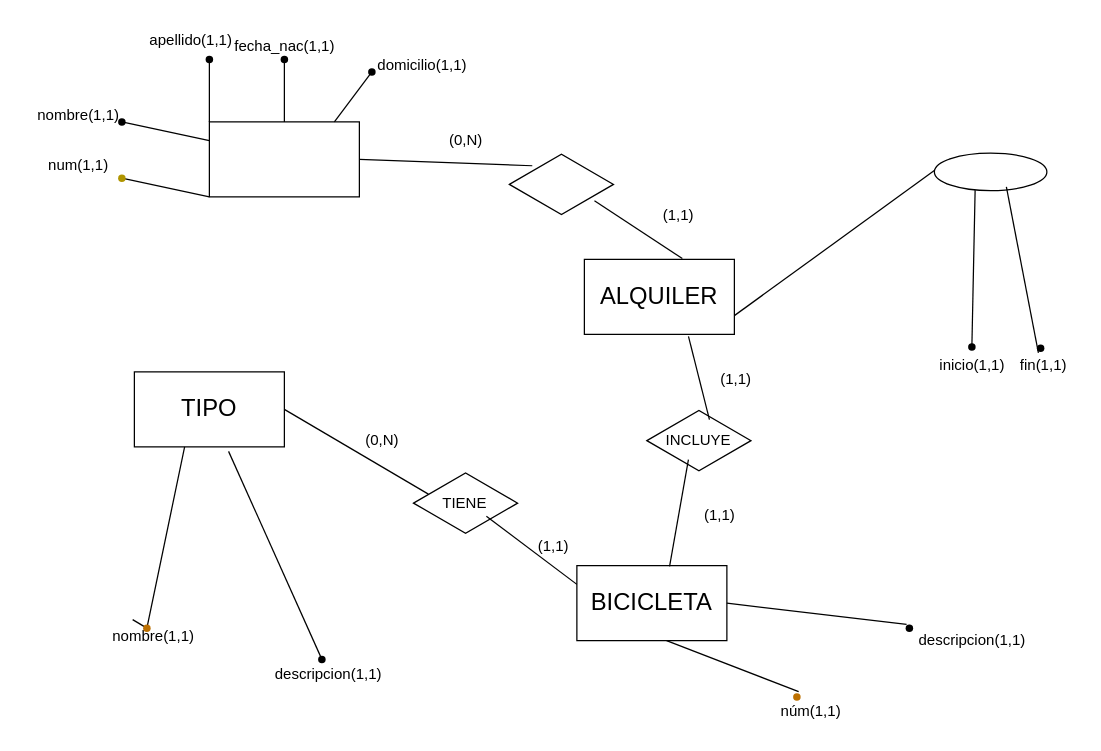
This 1101x751 diagram has some shape labels left out. Here are the shapes that lost their labels. From the top down, the centre of each, then its label:
[283,159]: CLIENTE
[990,171]: FECHA
[561,184]: REALIZA
